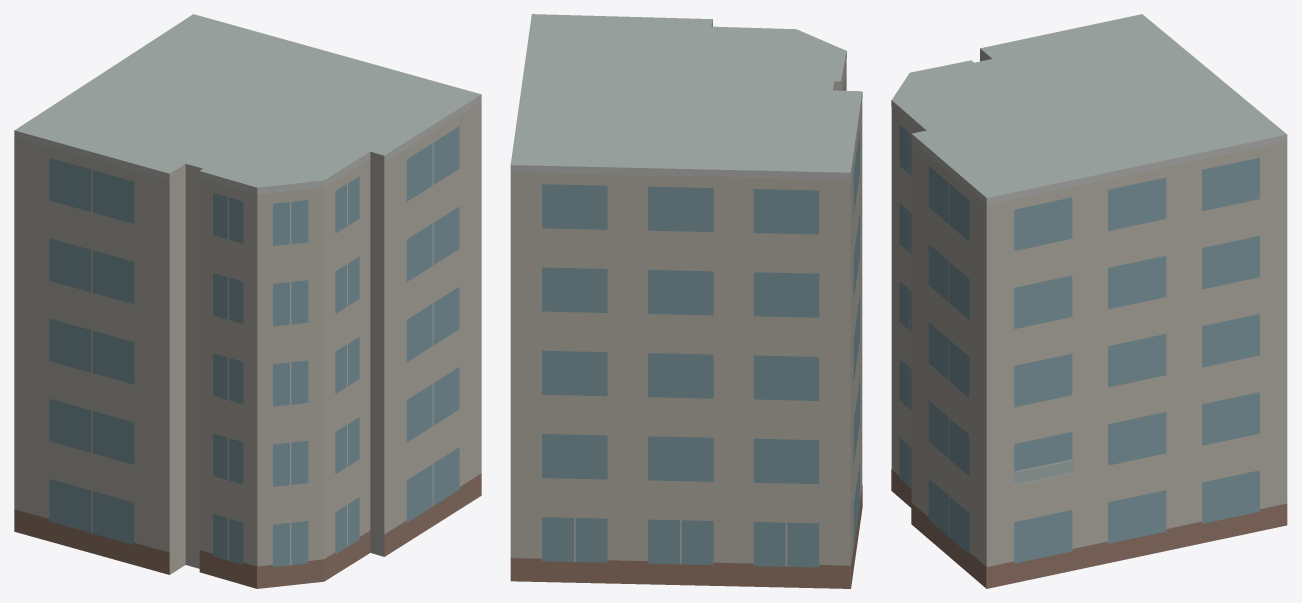
File: survey-upis-32904044.glb
3 renders of one model, left to right at view 1: azimuth 30°, elevation 25°; view 2: azimuth 150°, elevation 25°; view 3: azimuth 270°, elevation 25°, orthographic. The views are drawn at different scales.
Parts seen in each view (by area): view 1: survey-upis-32904044.tmp; view 2: survey-upis-32904044.tmp; view 3: survey-upis-32904044.tmp.
Boxes of the visible parts, x1,y1,x2,y2 form: survey-upis-32904044.tmp: (14,14,481,588); survey-upis-32904044.tmp: (510,14,862,588); survey-upis-32904044.tmp: (891,14,1287,588).
Bounding box in the file's own units: 14.26 × 14.1 × 12.95.
